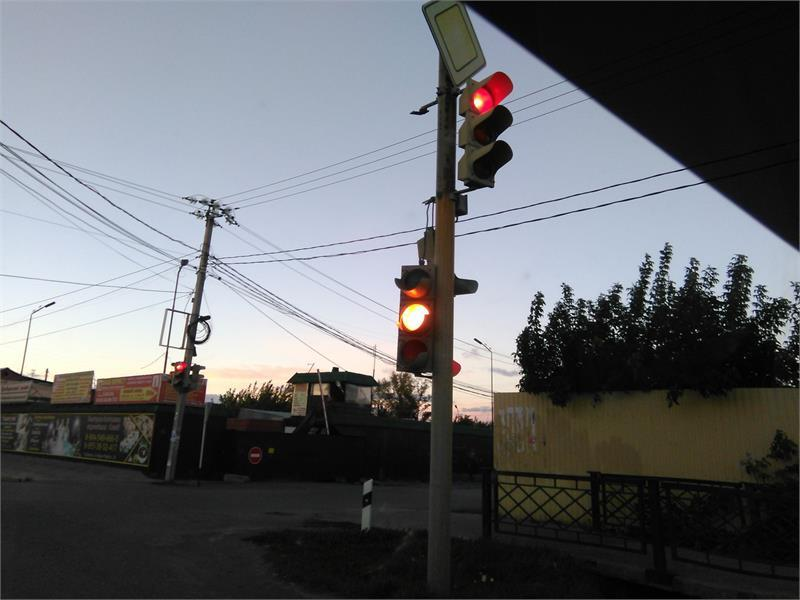road_sign: (423, 0, 486, 87)
traffic light: (458, 72, 513, 188), (395, 266, 436, 371), (173, 361, 188, 390)
